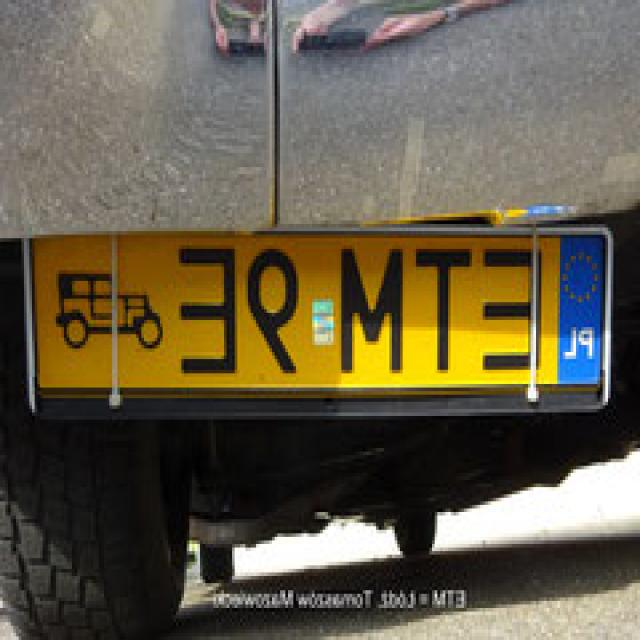pl_license_plate: (37, 235, 608, 388)
